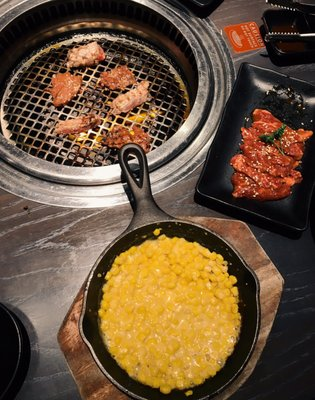sushi: (58, 220, 287, 400)
